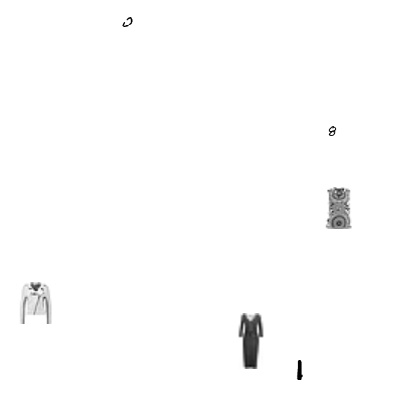0: (121, 15, 135, 29)
1: (285, 356, 313, 384)
8: (325, 124, 339, 138)
Coat: (14, 282, 56, 324)
Dress: (223, 313, 279, 369)
Shirt: (317, 187, 359, 229)
